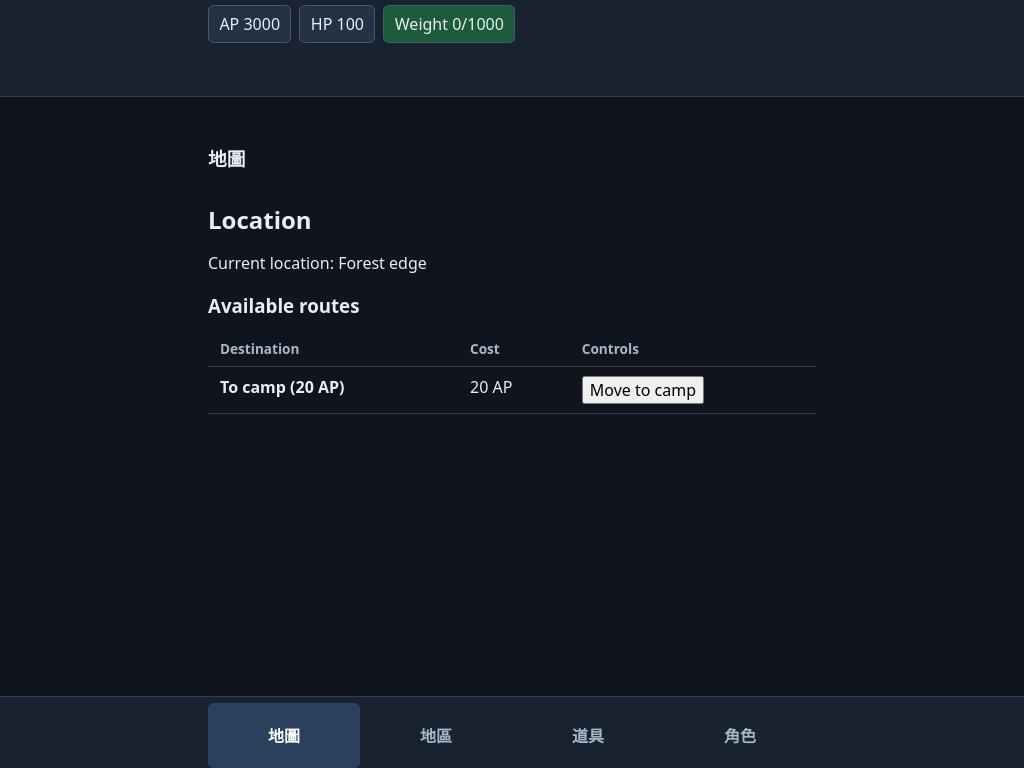
it: App gameplay tab integration › contains every gameplay table in a scroll wrapper with scoped column headers
The width and height of the screenshot is (1024, 768).
Check: the heading "地圖" is shown, box left=208, top=146, right=245, bottom=171
Click the button "地圖" at (284, 735), box left=208, top=703, right=360, bottom=767
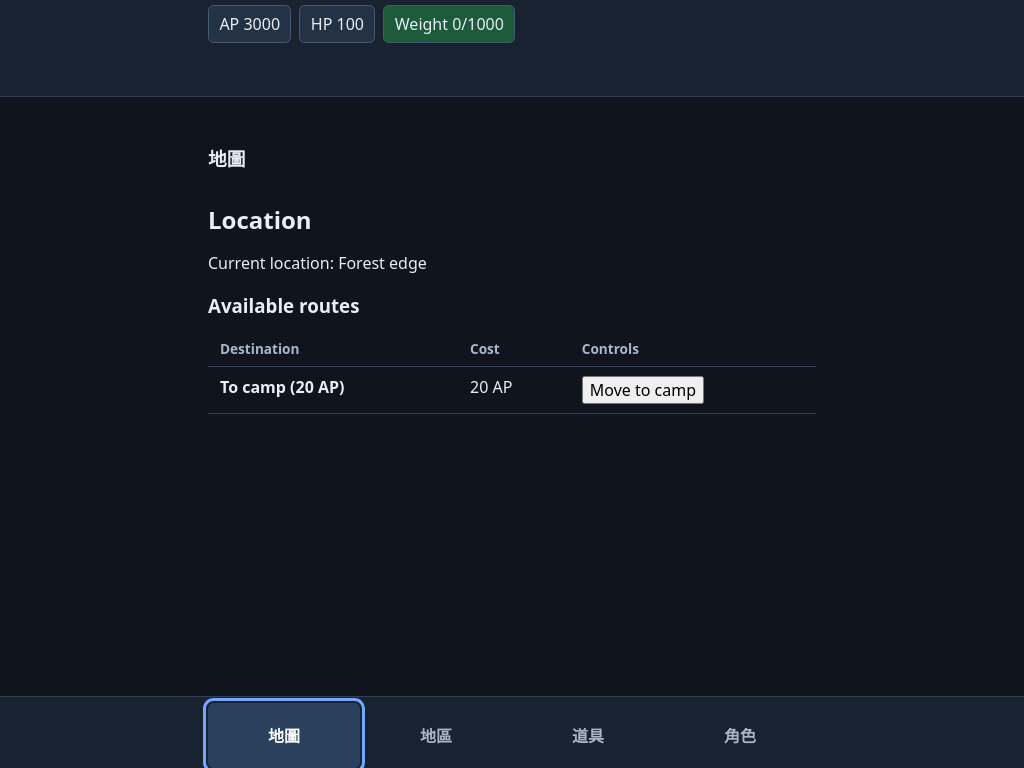
Check: the heading "地圖" is shown, box left=208, top=146, right=245, bottom=171
Check: the table is shown, box left=208, top=330, right=816, bottom=414
Click the button "地區" at (436, 735), box left=360, top=703, right=512, bottom=767
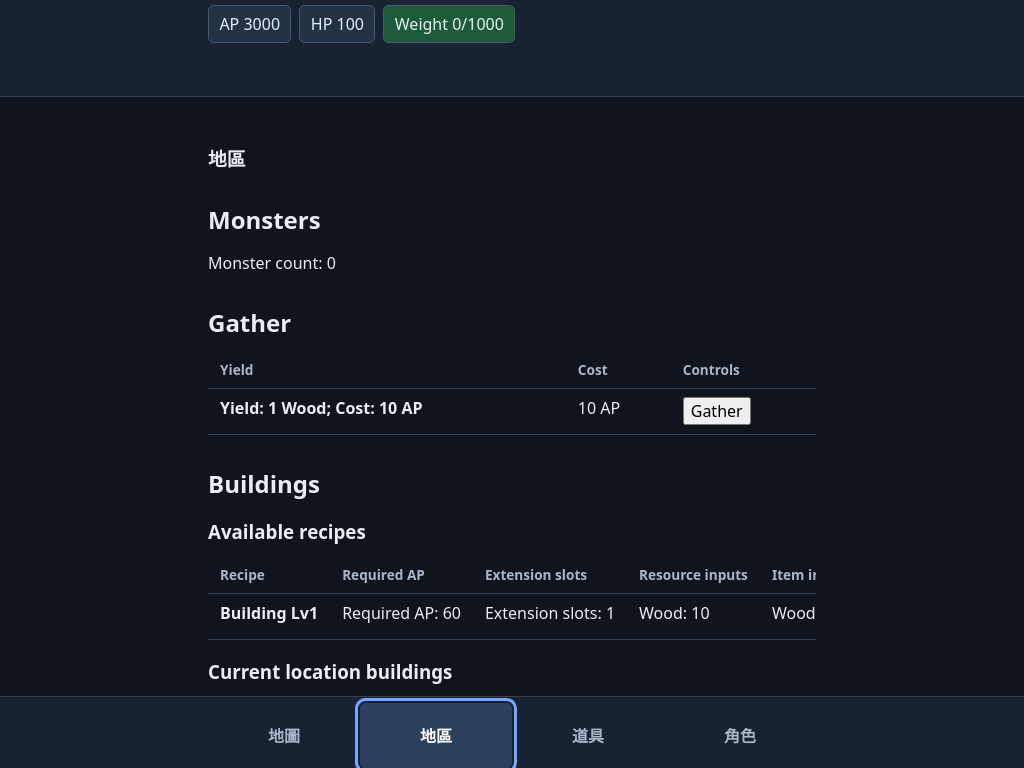
Check: the heading "地區" is shown, box left=208, top=146, right=245, bottom=171
Check: the table "Yield Cost Controls Yield: 1 Wood; Cost: 10 AP 10 AP Gather" is shown, box left=208, top=351, right=816, bottom=435
Click the button "道具" at (588, 735), box left=512, top=703, right=664, bottom=767
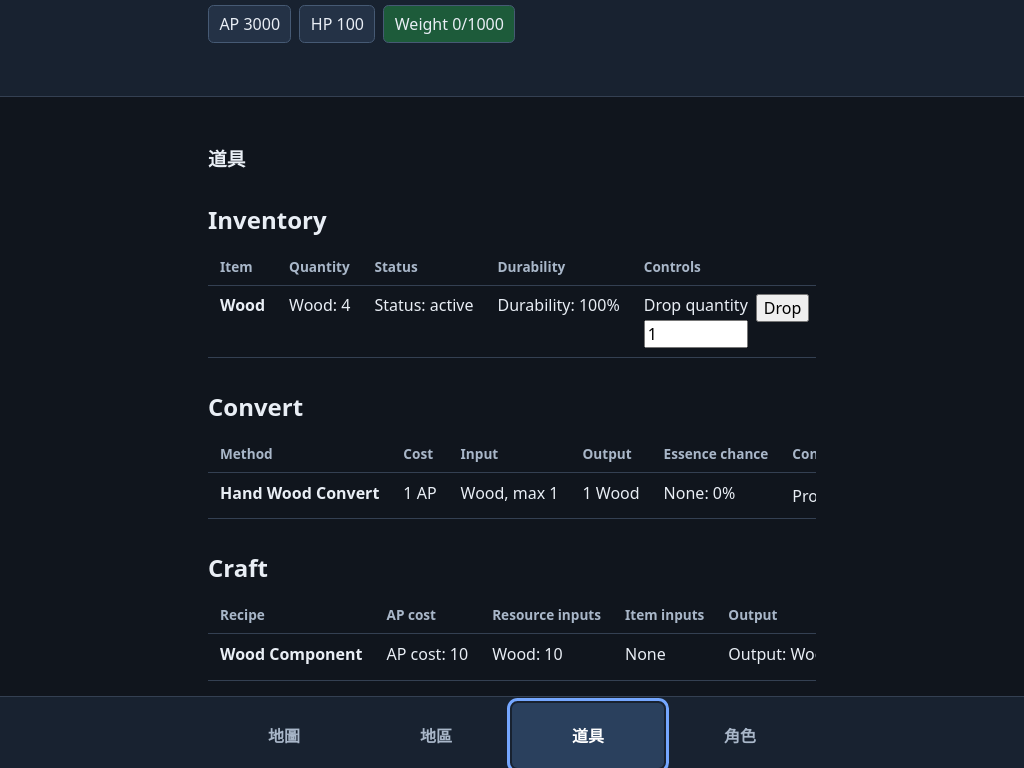
Check: the table named "Inventory" is shown, box left=208, top=248, right=816, bottom=358
Check: the heading "道具" is shown, box left=208, top=146, right=245, bottom=171
Click the button "角色" at (740, 735), box left=664, top=703, right=816, bottom=767
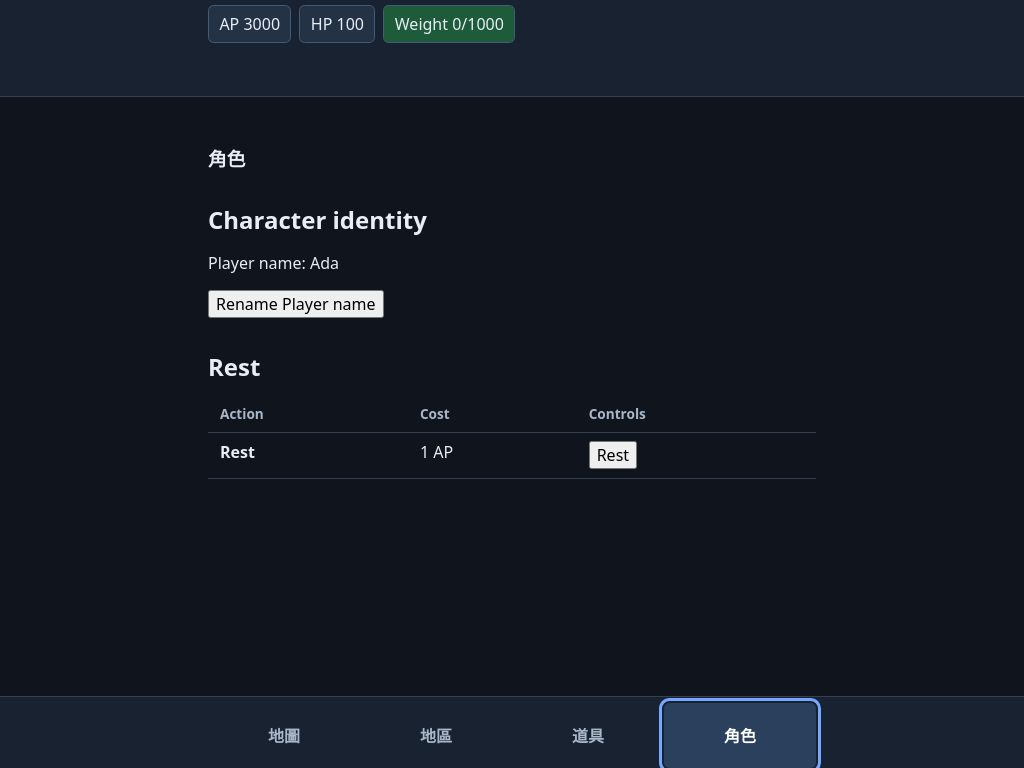
Check: the heading "角色" is shown, box left=208, top=146, right=245, bottom=171
Check: the table is shown, box left=208, top=395, right=816, bottom=479
